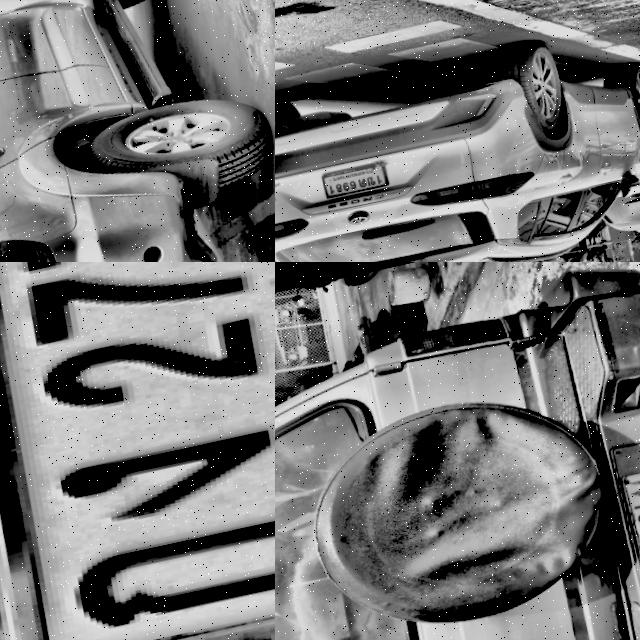license-plate: (0, 262, 275, 640), (375, 62, 430, 124), (612, 459, 640, 571)
